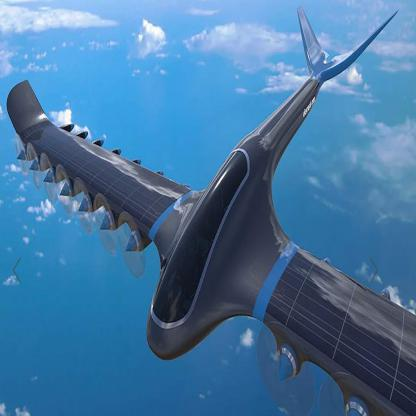CIV_Plane: (4, 0, 414, 414)
